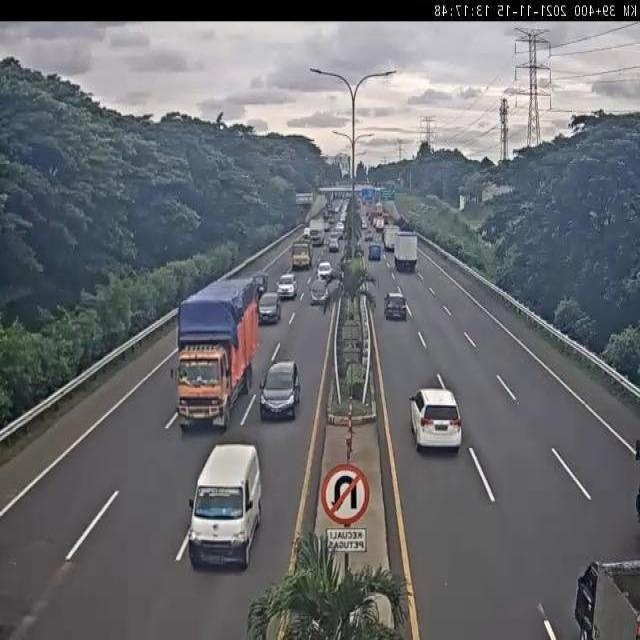Car: (187, 443, 262, 570), (409, 386, 462, 451), (258, 350, 308, 418), (257, 292, 282, 325), (384, 291, 408, 321), (276, 274, 298, 299), (309, 278, 329, 305), (252, 272, 269, 297), (317, 261, 333, 281), (332, 193, 350, 210), (358, 280, 374, 298), (368, 243, 382, 260), (329, 237, 339, 252), (330, 206, 339, 222), (364, 227, 374, 241), (340, 211, 348, 228), (354, 246, 364, 258), (336, 222, 344, 236), (359, 230, 367, 244), (361, 217, 368, 232), (303, 227, 311, 240), (324, 220, 331, 232), (324, 209, 331, 221)
Truck: (174, 276, 262, 431), (394, 231, 418, 272), (291, 240, 312, 269), (383, 225, 399, 252), (373, 217, 385, 233), (381, 212, 390, 226), (375, 202, 383, 215)
